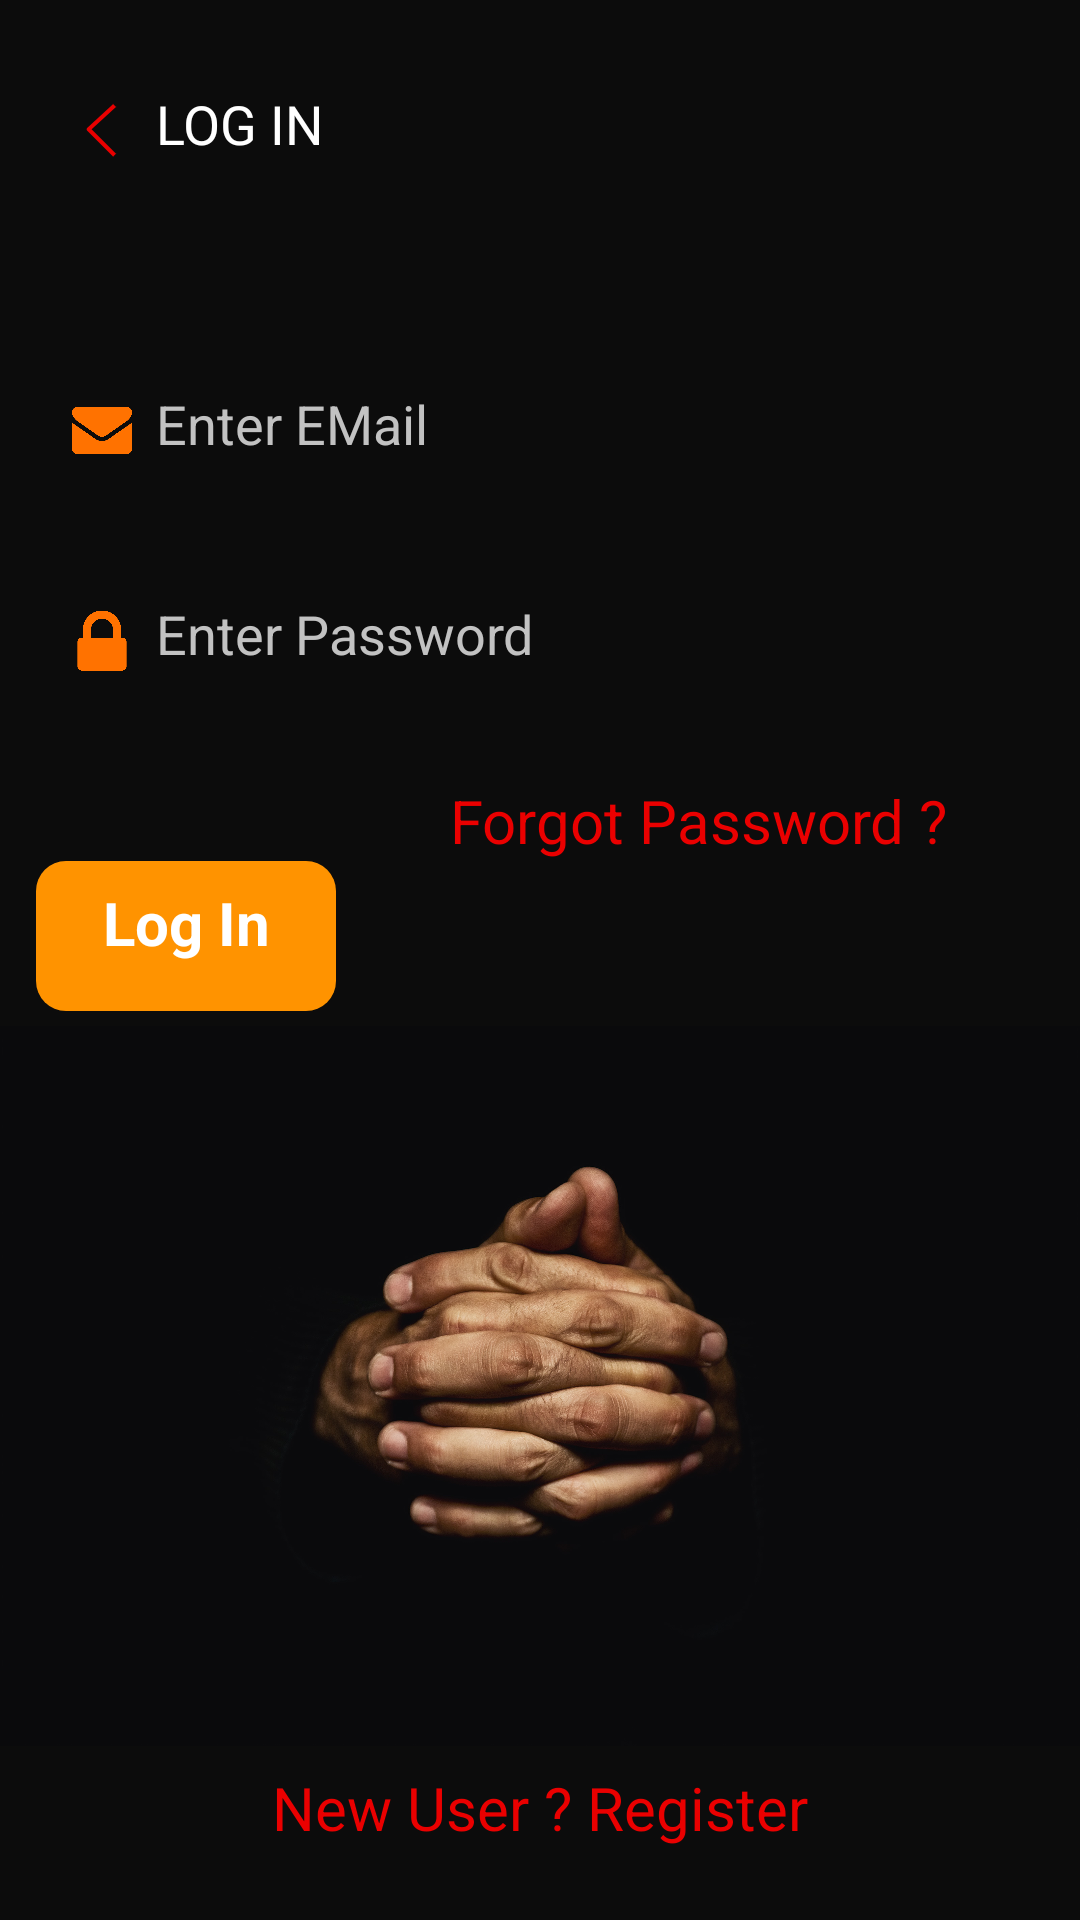

Locate icon controls on the screen. Image size 1080*1920, boxes as (x1, y1, x2, y2).
back: (86, 104, 116, 157)
